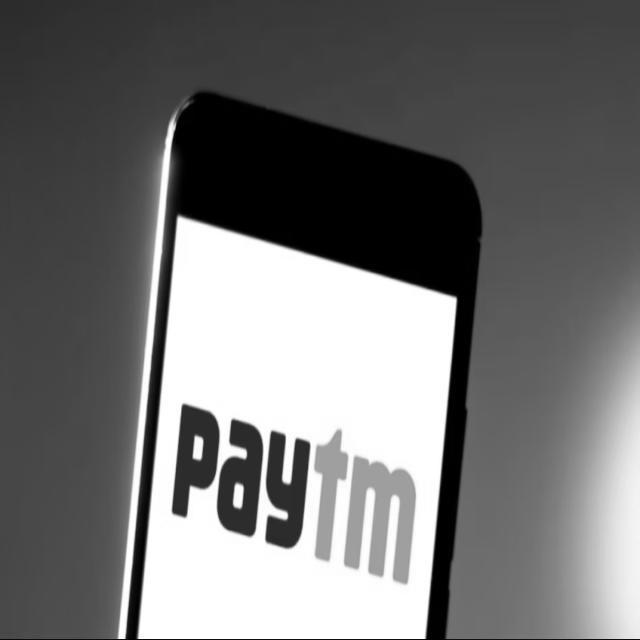fully_visible: (168, 389, 422, 598)
